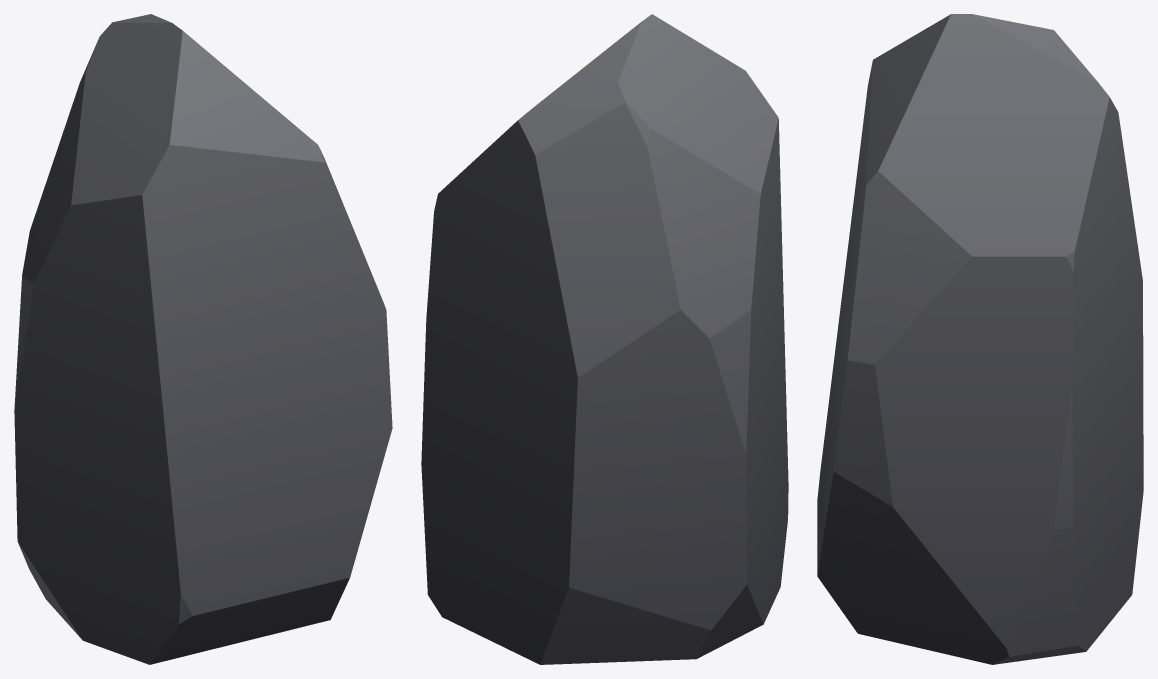
Rendered from Rock_04.fbx.
3 views of the same model, side by side, from view 1: azimuth 30°, elevation 25°; view 2: azimuth 150°, elevation 25°; view 3: azimuth 270°, elevation 25° (orthographic). The views are drawn at different scales.
Parts seen in each view (by area): view 1: Rock_04_LOD0; view 2: Rock_04_LOD0; view 3: Rock_04_LOD0.
Boxes of the visible parts, bbox=[...] form: Rock_04_LOD0: bbox=[14, 14, 392, 664]; Rock_04_LOD0: bbox=[421, 14, 788, 664]; Rock_04_LOD0: bbox=[817, 14, 1143, 664].
Size of what is drawn, in the model's own units: 0.6441 by 1.15 by 0.5921.
